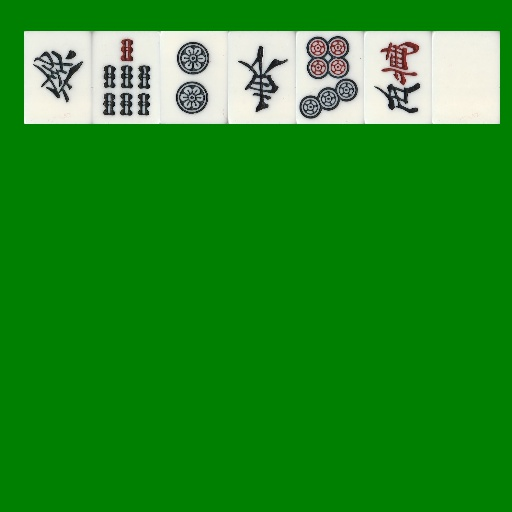2p: (160, 31, 228, 124)
5m: (364, 31, 432, 124)
7p: (296, 31, 364, 124)
7s: (92, 31, 160, 124)
east: (228, 31, 296, 124)
hatsu: (24, 31, 92, 124)
white: (432, 31, 500, 124)
